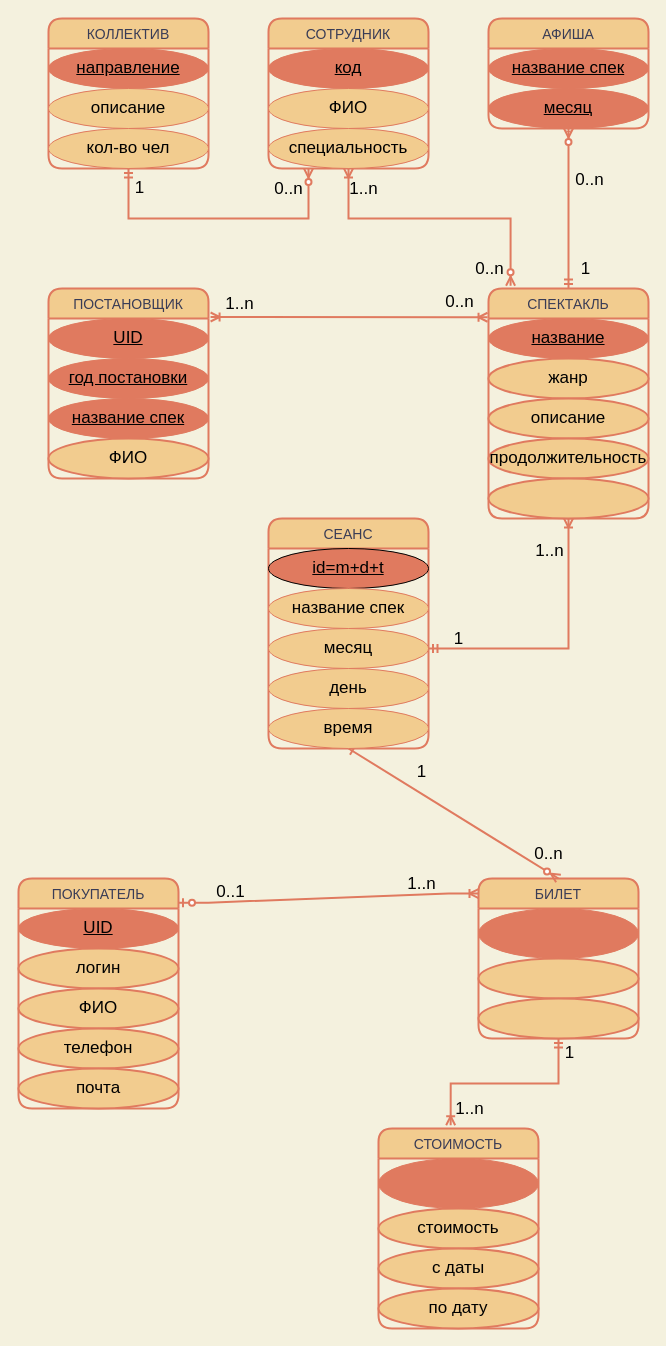
Image size: 666x1346. Some labels were removed from this diagram. Here are the shapes that lost their labels. From the top down, the centre of each, then its label:
At point (568, 498): "возраст рейтинг".
At point (558, 933): "номер".
At point (558, 978): "место".
At point (558, 1018): "текущая стоимость".
At point (458, 1183): "id".
